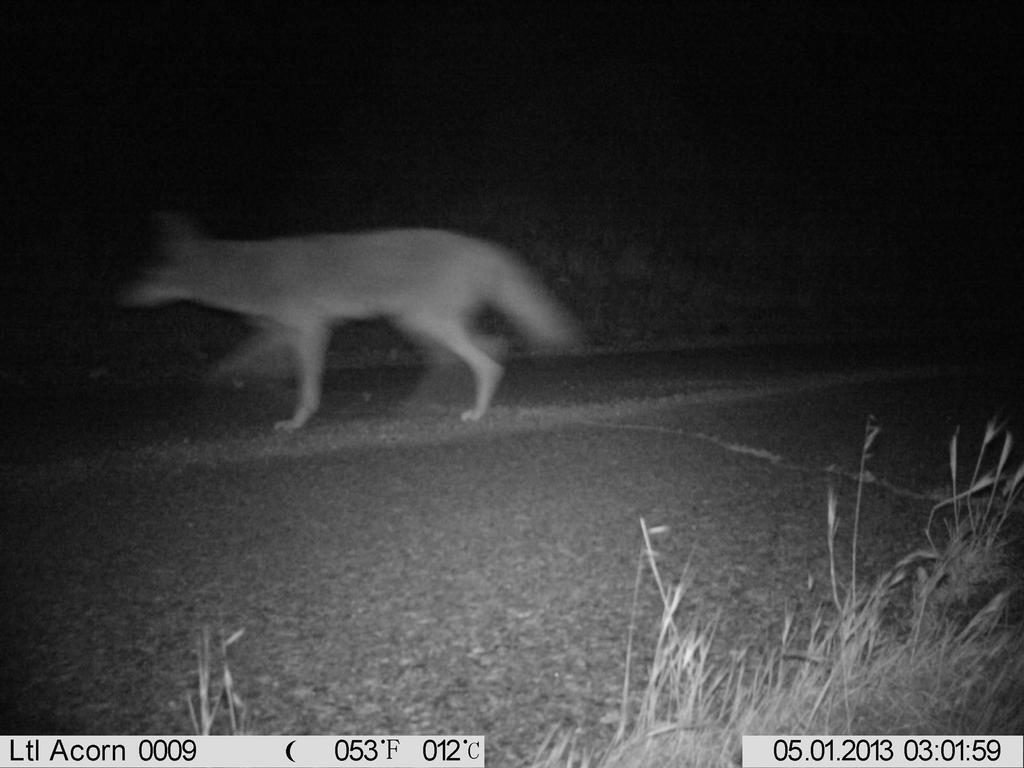coyote: (108, 215, 587, 443)
